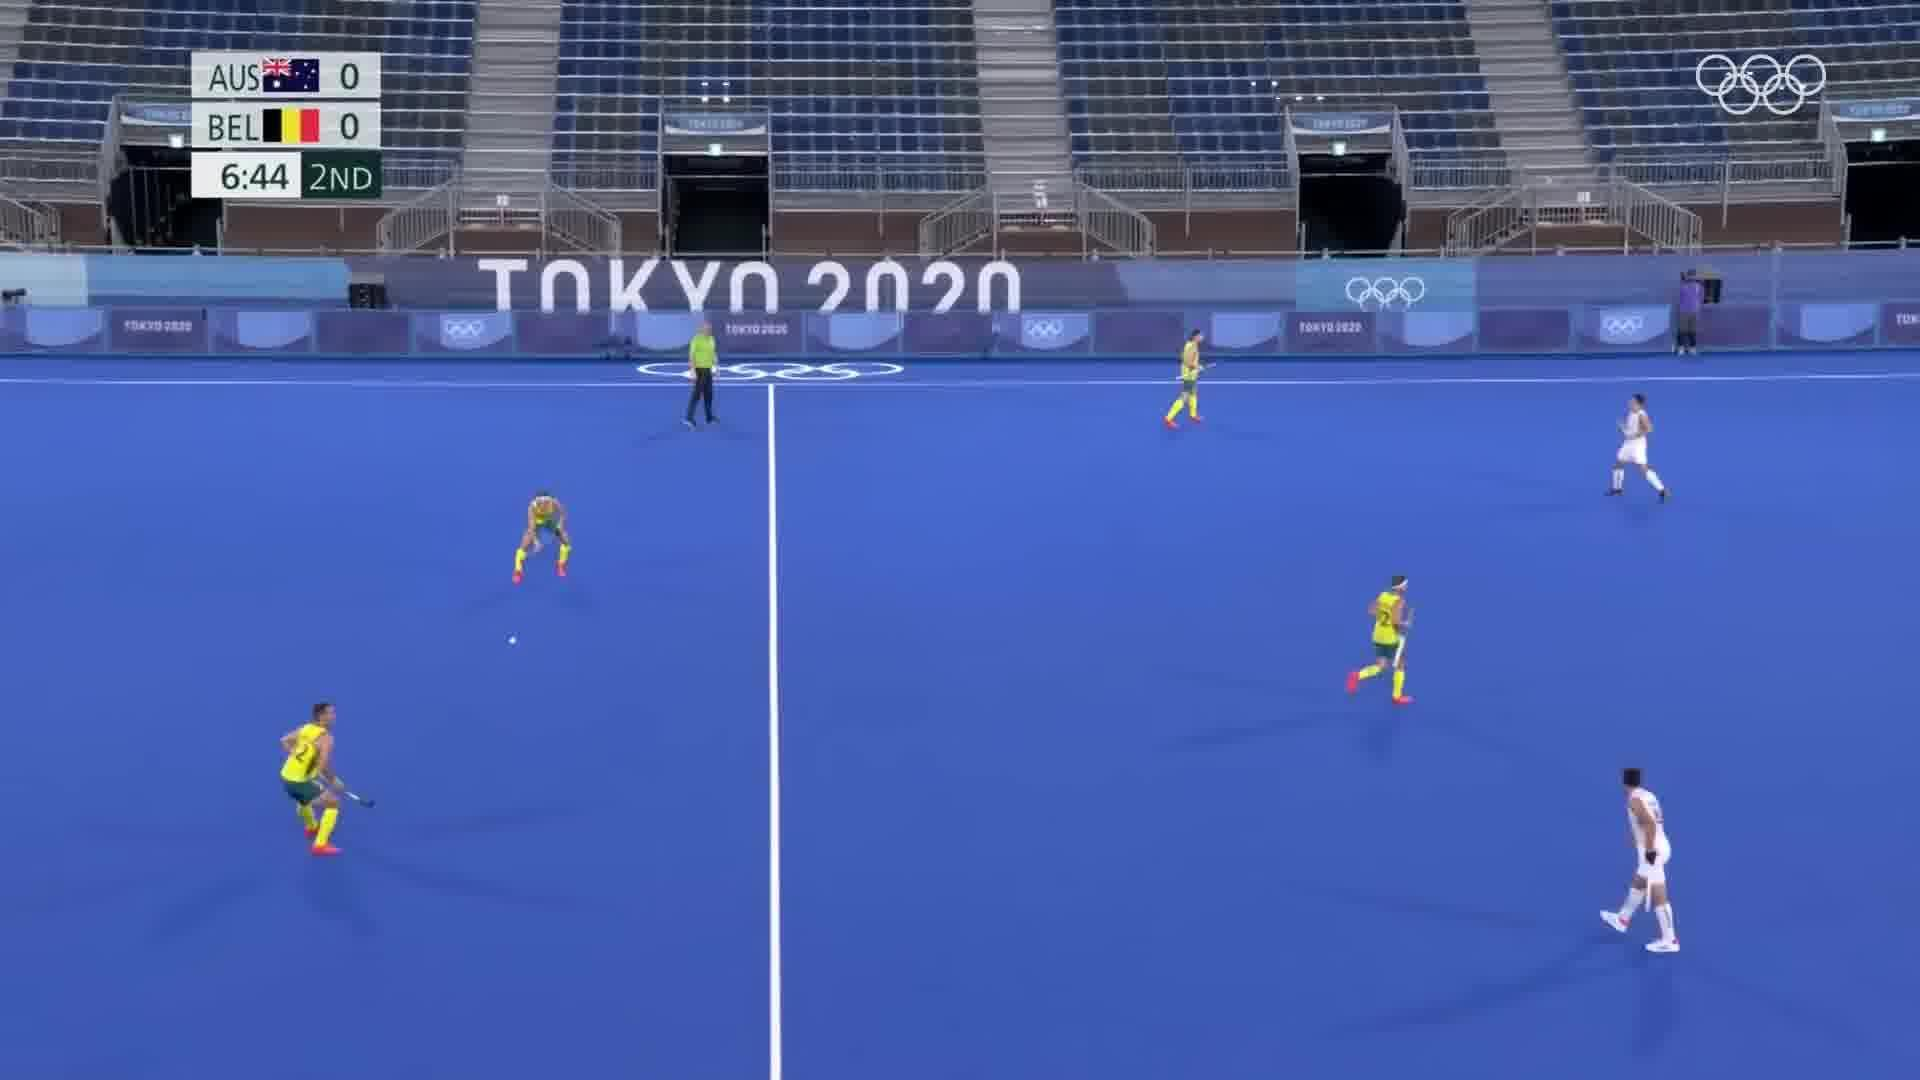ball: (498, 632, 525, 649)
